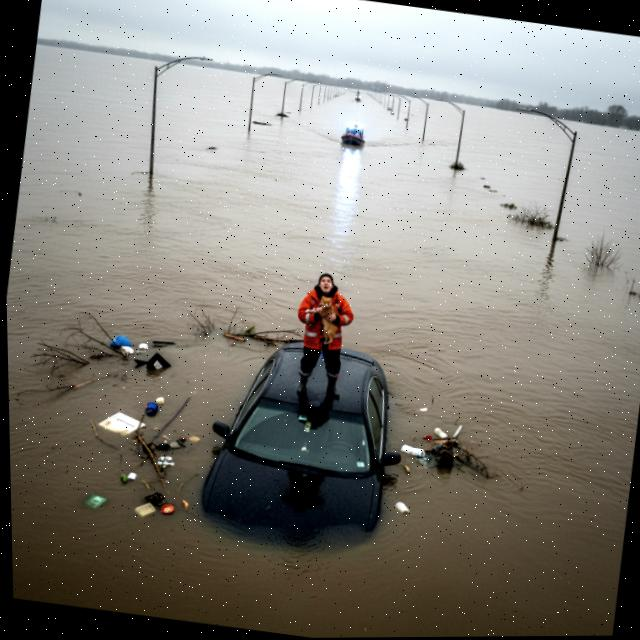cat: (303, 289, 349, 354)
rescuer: (280, 260, 367, 410)
